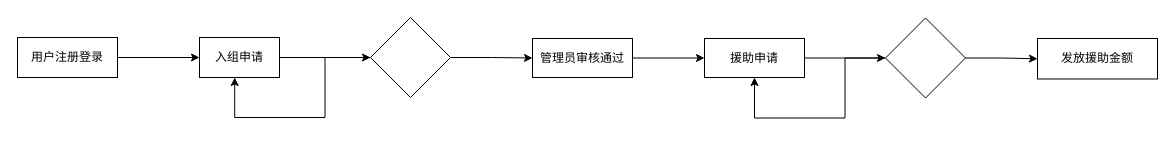
Image size: 1175x144. Some labels were removed from this diagram. Each missing label, with the centre of its shape:
"是否审核通过" goes at point 925,57.
"是否提交" goes at point 410,57.
